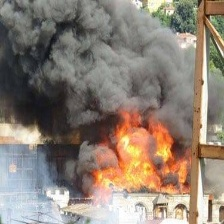fire: (96, 121, 192, 200)
smoke: (1, 1, 224, 144)
